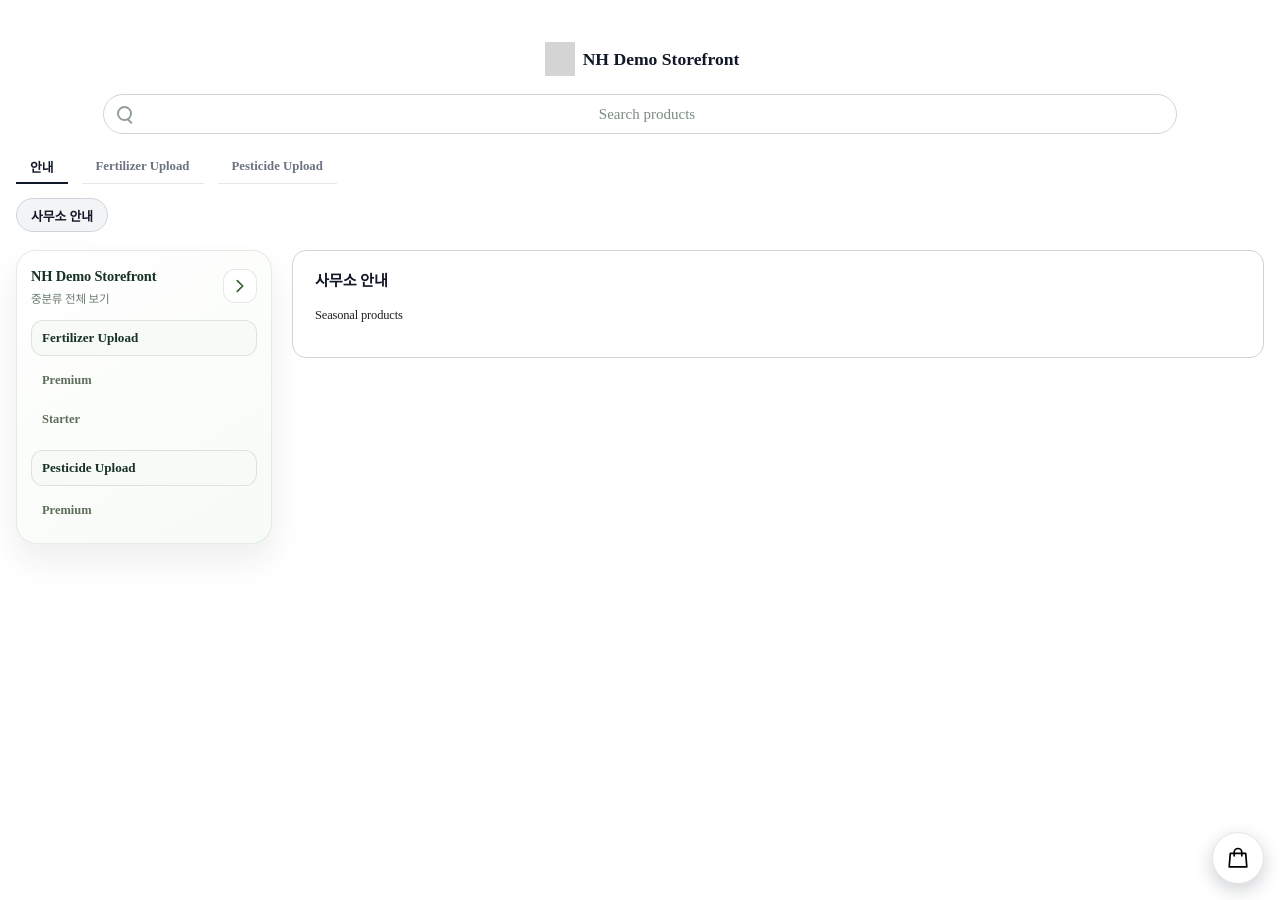
PublicStorefrontPage › renders product-category sections and keeps rows scoped to the saved source category
Click the 1st button "Fertilizer Upload" at (142, 167), box [82, 150, 204, 184]
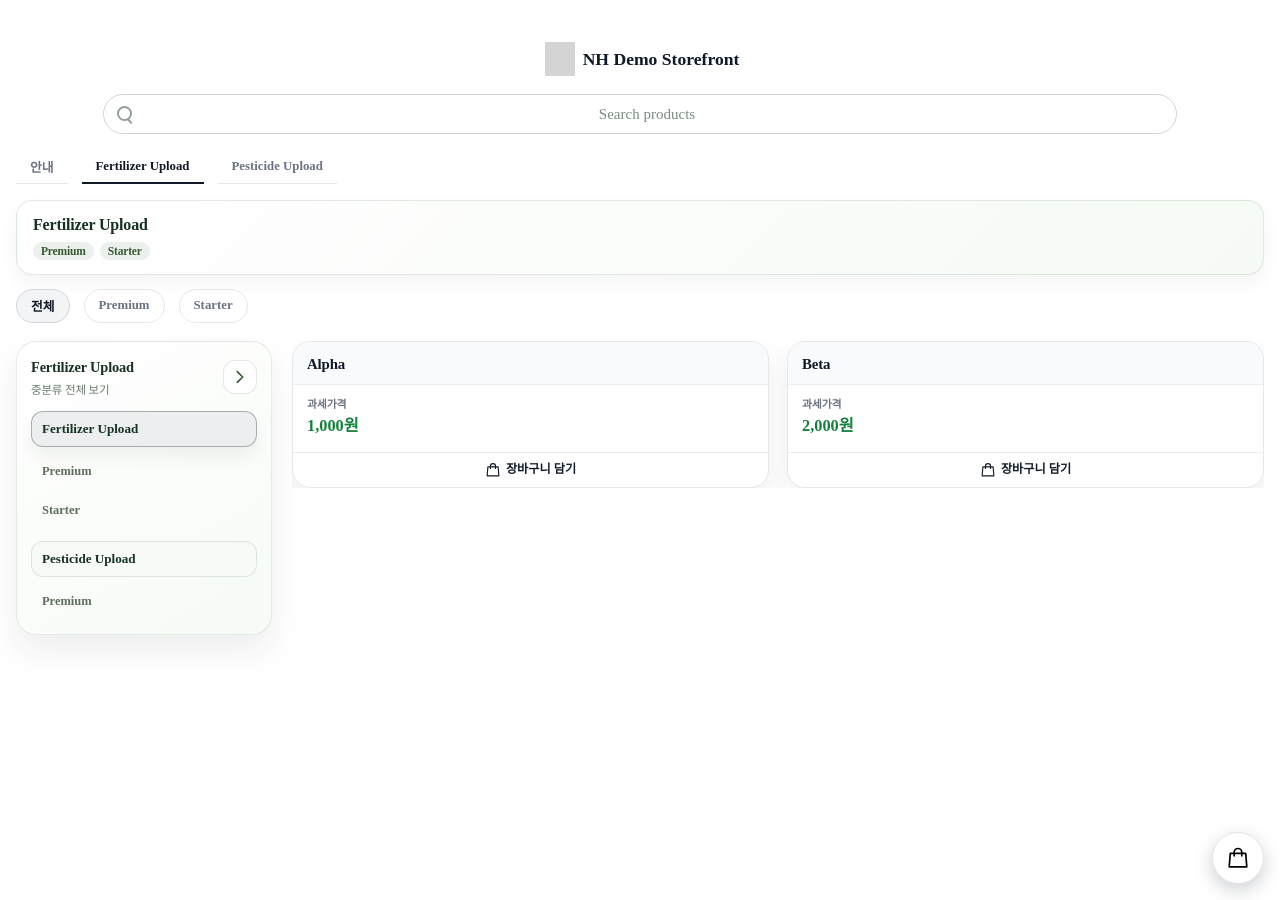
Expected: the 1st button "Premium" is shown, [84, 289, 164, 323]
Expected: the 1st button "Starter" is shown, [178, 289, 248, 323]
Expected: the text "Alpha" is shown, [307, 356, 345, 372]
Type "Beta" into the search field with placeholder "Search products" at (654, 114), box [144, 104, 1164, 124]
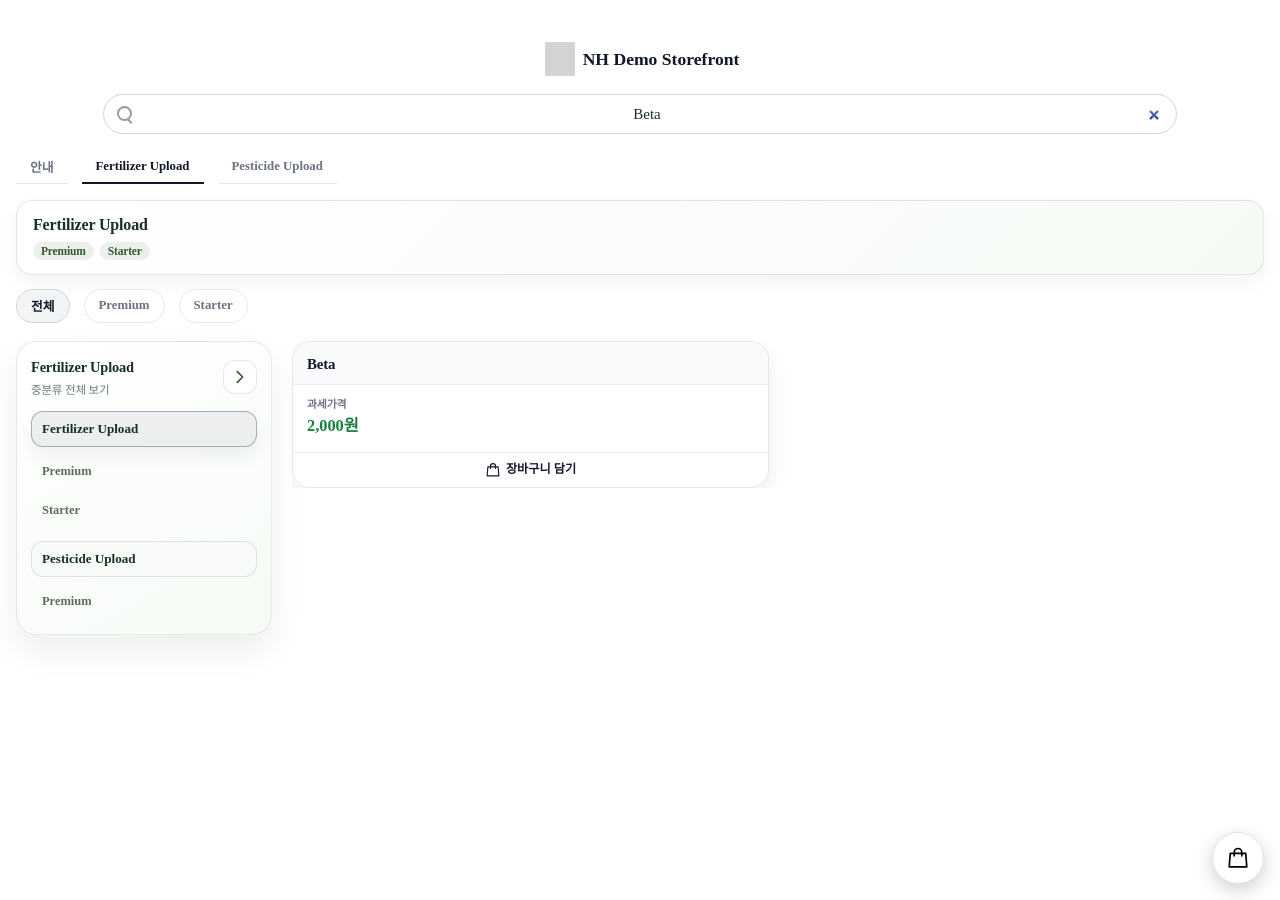
Expected: the text "Beta" is shown, [307, 356, 335, 372]
Expected: the text "Alpha" is gone
